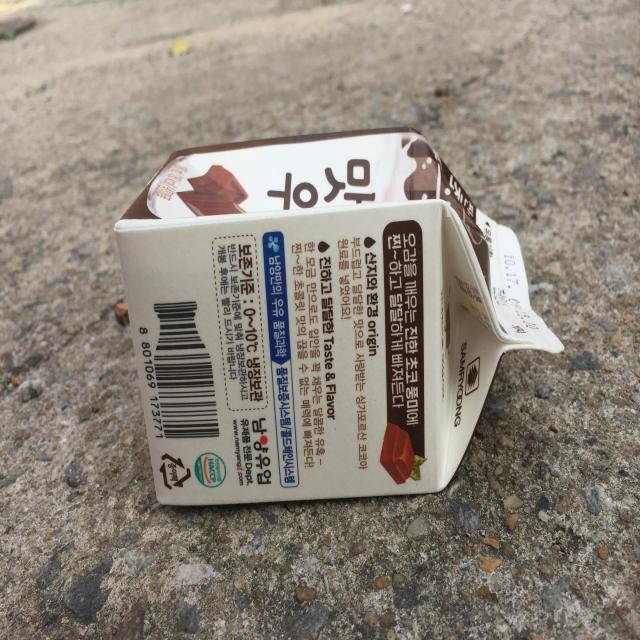paperpack: (115, 127, 564, 506)
